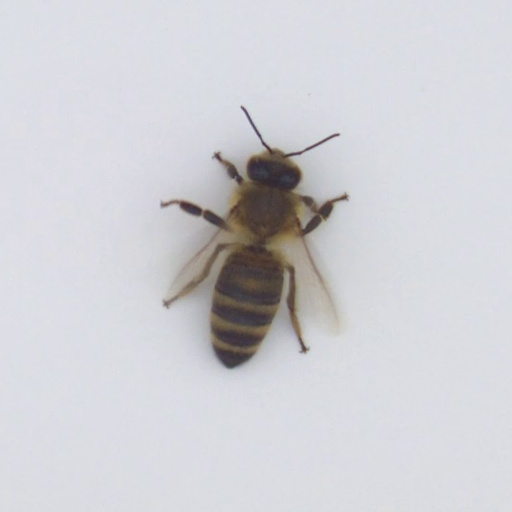Bee: (194, 140, 312, 384)
Thorax: (233, 181, 300, 241)
